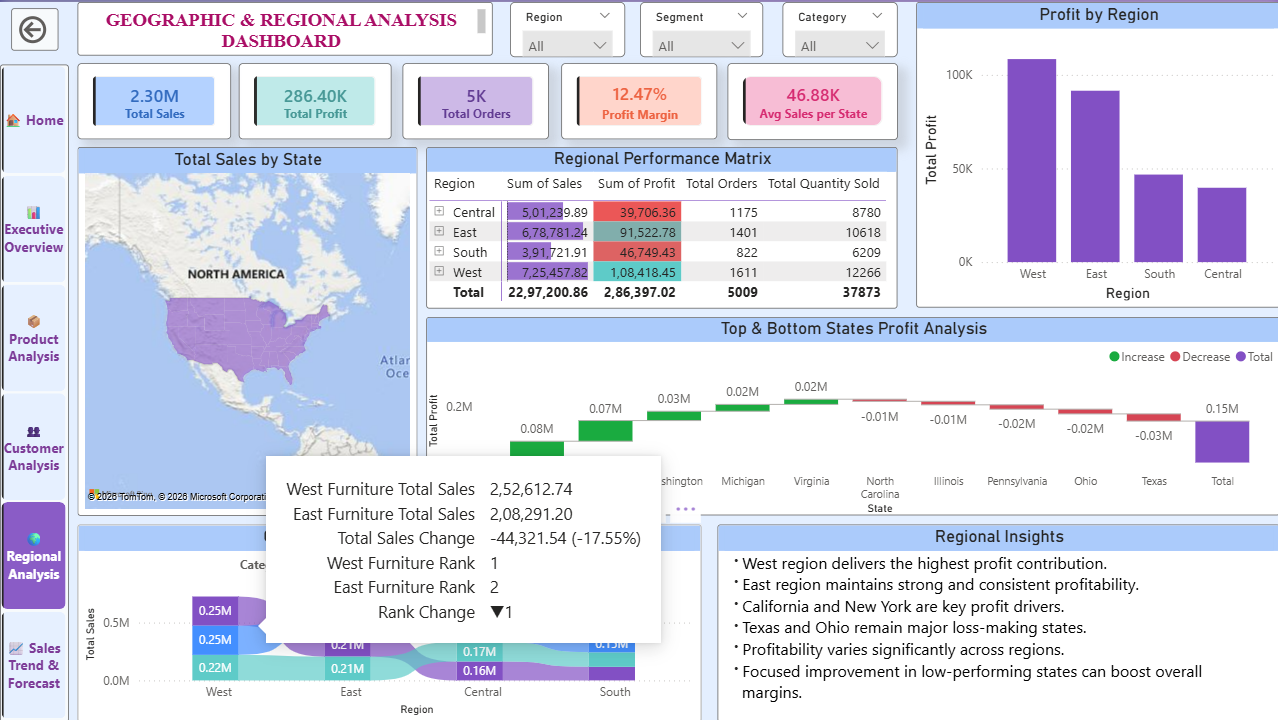

What the dashboard file says about the page in this screenshot:
{"tool":"powerbi","page":{"name":"🌍 Regional Analysis","canvas":[1280,720],"ordinal":7},"visuals":[{"type":"textbox","box":[77.5,0,415,53.8],"z":0},{"type":"slicer","fields":{"Values":["Sample-superstore-data.Region"]},"box":[510,0,115.6,55.6],"z":1000},{"type":"slicer","fields":{"Values":["Sample-superstore-data.Segment"]},"box":[640,0,123.3,55.6],"z":2000},{"type":"slicer","fields":{"Values":["Sample-superstore-data.Category"]},"box":[782.2,0,115.6,55.6],"z":3000},{"type":"cardVisual","fields":{"Data":["Sample-superstore-data.Total Sales"]},"box":[77.5,61.2,153.8,76.2],"z":4000},{"type":"cardVisual","fields":{"Data":["Sample-superstore-data.Total Profit"]},"box":[238.8,61.2,152.5,76.2],"z":5000},{"type":"cardVisual","fields":{"Data":["Sample-superstore-data.Total Orders"]},"box":[402.5,61.2,146.2,76.2],"z":6000},{"type":"cardVisual","fields":{"Data":["Sample-superstore-data.Profit Margin"]},"box":[561.2,61.2,156.2,76.2],"z":7000},{"type":"cardVisual","fields":{"Data":["Sample-superstore-data.Avg Sales per State"]},"box":[727.8,61.1,170,76.7],"z":8000},{"type":"filledMap","fields":{"Category":["Sample-superstore-data.State"]},"box":[77.5,145,340,368.8],"z":9000},{"type":"columnChart","title":"Profit by Region","fields":{"Category":["Sample-superstore-data.Region"],"Y":["Sample-superstore-data.Total Profit"]},"box":[915.7,0,364.3,305.7],"z":10000},{"type":"waterfallChart","title":"Top & Bottom States Profit Analysis","fields":{"Y":["Sample-superstore-data.Total Profit"],"Category":["Sample-superstore-data.State"]},"box":[426.2,315,853.8,198.8],"z":11000},{"type":"pivotTable","title":"Regional Performance Matrix","fields":{"Rows":["Sample-superstore-data.Region","Sample-superstore-data.State"],"Values":["Sum(Sample-superstore-data.Sales)","Sum(Sample-superstore-data.Profit)","Sample-superstore-data.Total Orders","Sample-superstore-data.Total Quantity Sold"]},"box":[426.2,145,471.2,161.2],"z":12000},{"type":"ribbonChart","title":"Category Ranking Across Regions","fields":{"Category":["Sample-superstore-data.Region"],"Series":["Sample-superstore-data.Category"],"Y":["Sample-superstore-data.Total Sales"]},"box":[77.5,522.5,623.8,197.5],"z":13000},{"type":"pageNavigator","box":[0,62.5,68.8,657.5],"z":14000},{"type":"actionButton","box":[11.2,6.2,47.5,42.5],"z":15000},{"type":"textbox","title":"Regional Insights","box":[717.5,522.5,562.5,197.5],"z":16000}]}

Visuals, with their boxes on the page's 1280x720 design canvas (x1, y1, x2, y2). These are canvas units, not pixel positions in the 1278x720 screenshot, which may show the page scaled, cropped or inside an application window:
textbox: 78 0 492 54
slicer - Sample-superstore-data.Region: 510 0 626 56
slicer - Sample-superstore-data.Segment: 640 0 763 56
slicer - Sample-superstore-data.Category: 782 0 898 56
cardVisual - Sample-superstore-data.Total Sales: 78 61 231 137
cardVisual - Sample-superstore-data.Total Profit: 239 61 391 137
cardVisual - Sample-superstore-data.Total Orders: 402 61 549 137
cardVisual - Sample-superstore-data.Profit Margin: 561 61 717 137
cardVisual - Sample-superstore-data.Avg Sales per State: 728 61 898 138
filledMap - Sample-superstore-data.State: 78 145 418 514
"Profit by Region" columnChart: 916 0 1280 306
"Top & Bottom States Profit Analysis" waterfallChart: 426 315 1280 514
"Regional Performance Matrix" pivotTable: 426 145 897 306
"Category Ranking Across Regions" ribbonChart: 78 522 701 720
pageNavigator: 0 62 69 720
actionButton: 11 6 59 49
"Regional Insights" textbox: 718 522 1280 720
